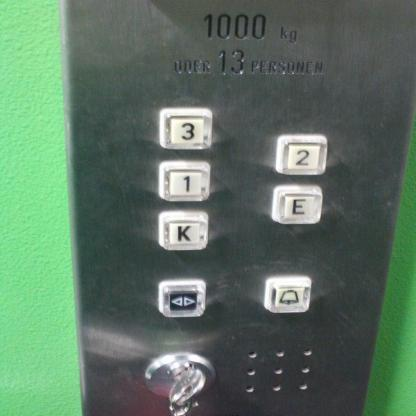1: (157, 160, 210, 201)
2: (273, 134, 327, 175)
3: (159, 107, 212, 149)
E: (270, 185, 322, 224)
K: (158, 210, 209, 250)
alarm: (261, 275, 314, 315)
open: (155, 278, 210, 318)
